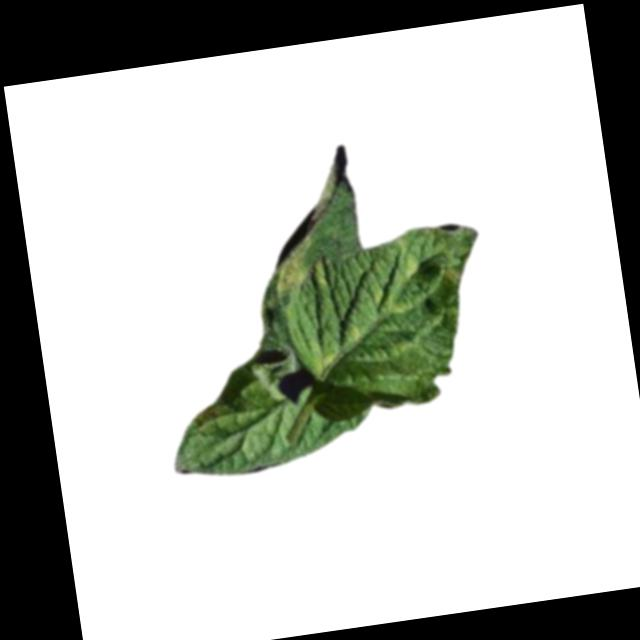Leaf_Mold: (277, 221, 502, 420), (266, 235, 332, 299)
